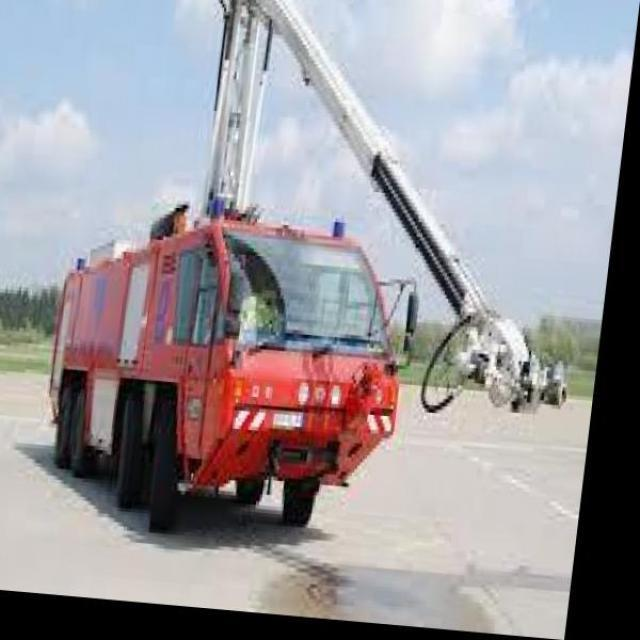emergency: (33, 208, 404, 548)
